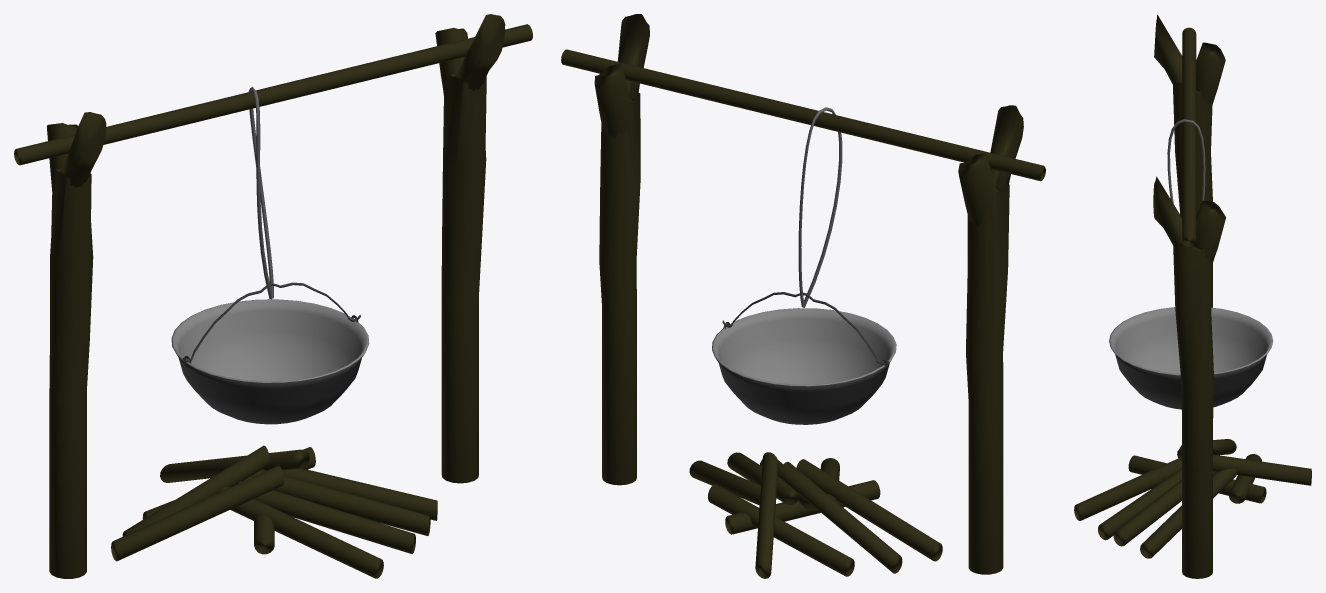
The model's file is cauldron.fbx.
The picture shows the model from 3 angles, left to right: view 1: azimuth 30°, elevation 25°; view 2: azimuth 150°, elevation 25°; view 3: azimuth 270°, elevation 25°; orthographic projection. The views are drawn at different scales.
Parts seen in each view (by area): view 1: Sphere, Cylinder.001, Cylinder, Cylinder.002, Cylinder.010, Cylinder.005, Cylinder.006, Cylinder.004, Cylinder.009, Cylinder.007, Cylinder.011, BezierCurve (+1 smaller); view 2: Cylinder, Cylinder.001, Sphere, Cylinder.002, Cylinder.010, Cylinder.009, Cylinder.008, Cylinder.011, BezierCurve, Cylinder.003, Cylinder.007, Cylinder.004; view 3: Cylinder.001, Sphere, Cylinder, Cylinder.002, Cylinder.006, Cylinder.011, Cylinder.004, Cylinder.007, Cylinder.005, Cylinder.003, Cylinder.008, BezierCurve (+1 smaller).
Part boxes in pixels (x1=…): Sphere: x1=171, y1=282, x2=369, y2=424; Cylinder.001: x1=435, y1=14, x2=505, y2=483; Cylinder: x1=47, y1=112, x2=106, y2=578; Cylinder.002: x1=14, y1=24, x2=532, y2=165; Cylinder.010: x1=111, y1=465, x2=284, y2=561; Cylinder.005: x1=238, y1=480, x2=415, y2=553; Cylinder.006: x1=220, y1=486, x2=383, y2=578; Cylinder.004: x1=251, y1=469, x2=430, y2=535; Cylinder.009: x1=122, y1=445, x2=269, y2=536; Cylinder.007: x1=262, y1=468, x2=437, y2=520; Cylinder.011: x1=160, y1=449, x2=309, y2=482; BezierCurve: x1=248, y1=86, x2=273, y2=299; Cylinder: x1=958, y1=105, x2=1023, y2=574; Cylinder.001: x1=594, y1=14, x2=649, y2=485; Sphere: x1=712, y1=292, x2=896, y2=424; Cylinder.002: x1=561, y1=49, x2=1045, y2=181; Cylinder.010: x1=796, y1=459, x2=942, y2=561; Cylinder.009: x1=780, y1=462, x2=902, y2=573; Cylinder.008: x1=708, y1=484, x2=854, y2=576; Cylinder.011: x1=755, y1=452, x2=778, y2=578; BezierCurve: x1=798, y1=107, x2=842, y2=307; Cylinder.003: x1=725, y1=480, x2=880, y2=534; Cylinder.007: x1=689, y1=460, x2=776, y2=505; Cylinder.004: x1=727, y1=452, x2=800, y2=504; Cylinder.001: x1=1153, y1=176, x2=1225, y2=578; Sphere: x1=1109, y1=307, x2=1273, y2=409; Cylinder: x1=1154, y1=14, x2=1225, y2=307; Cylinder.002: x1=1182, y1=27, x2=1196, y2=246; Cylinder.006: x1=1074, y1=458, x2=1181, y2=520; Cylinder.011: x1=1213, y1=454, x2=1311, y2=485; Cylinder.004: x1=1113, y1=471, x2=1215, y2=546; Cylinder.007: x1=1140, y1=468, x2=1236, y2=558; Cylinder.005: x1=1098, y1=468, x2=1181, y2=540; Cylinder.003: x1=1128, y1=455, x2=1266, y2=503; Cylinder.008: x1=1229, y1=454, x2=1261, y2=503; BezierCurve: x1=1167, y1=119, x2=1205, y2=203.
Size of the model in its own units: 182 by 167 by 88.69.
